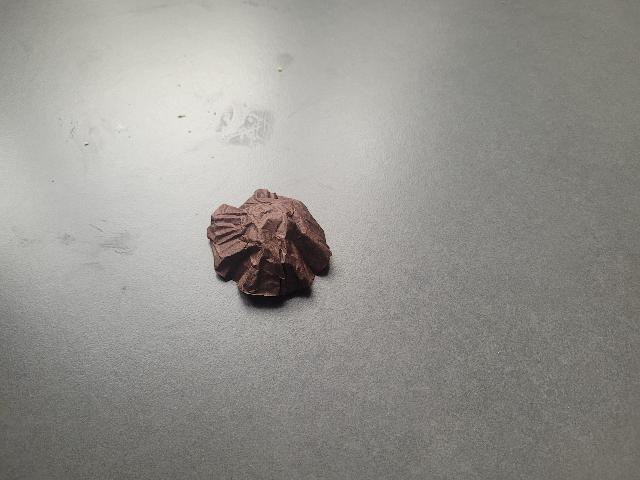Plastik: (195, 180, 361, 313)
